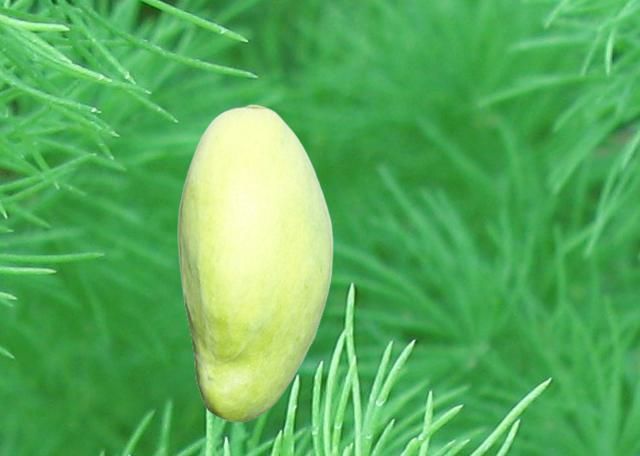green_mango: (177, 104, 332, 421)
